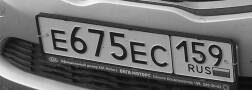license-plateSW: (37, 14, 236, 84)
